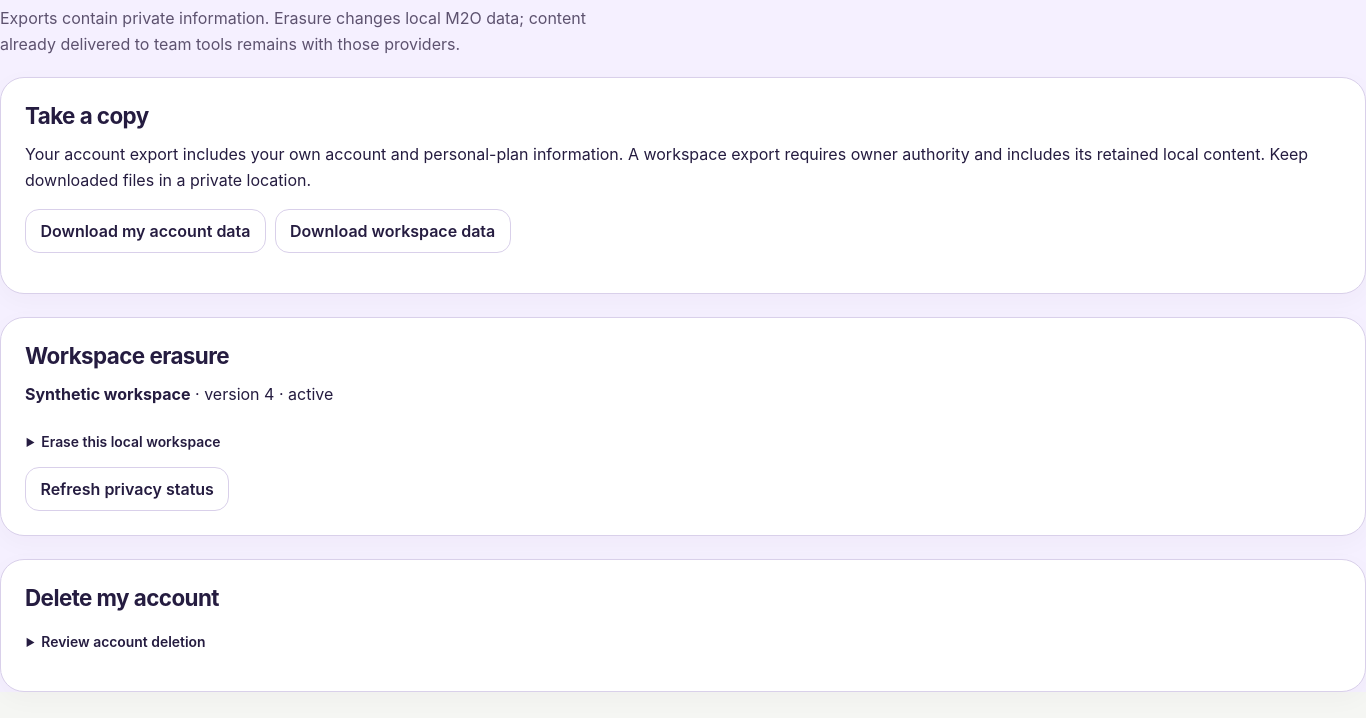
Scenario: requires the current name/password/version and preserves a truthful local-erasure receipt
Step 1. Click the heading "Erase this local workspace" → click(131, 442), box left=41, top=434, right=220, bottom=450
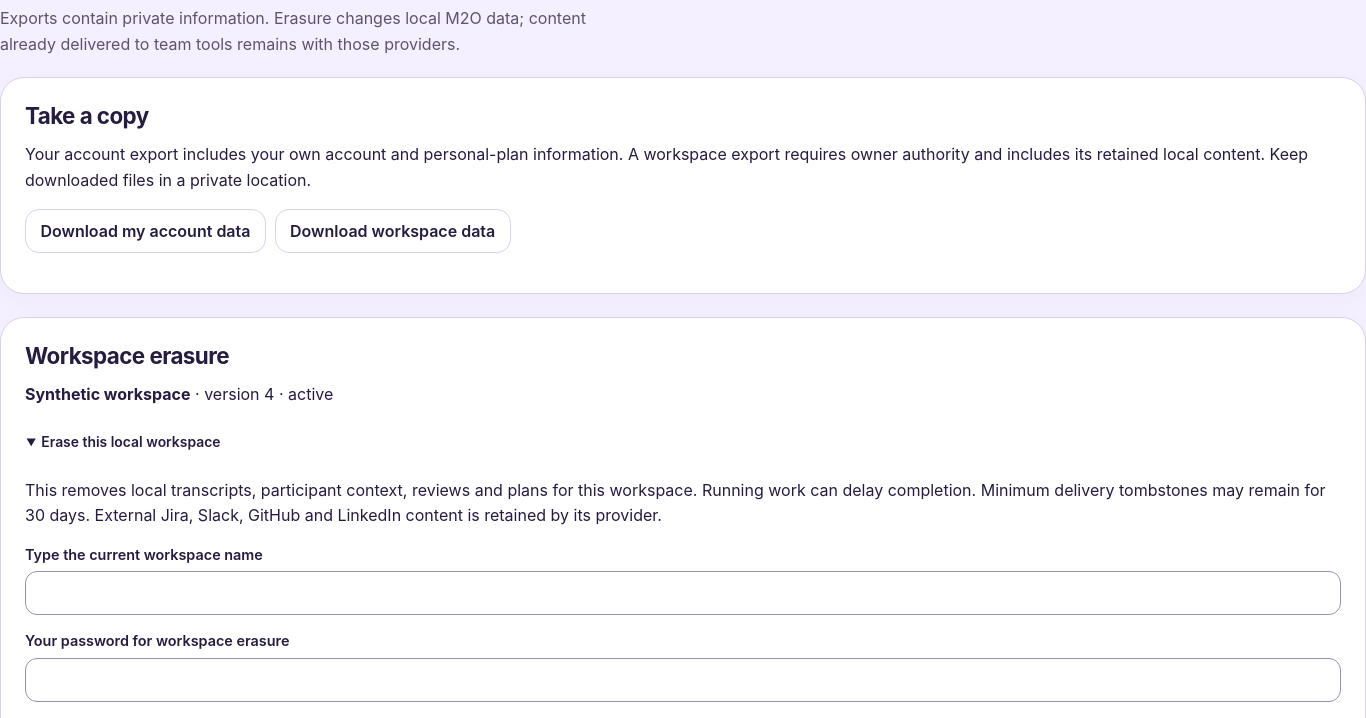
Step 2. Type "Synthetic workspace" into the field labelled "Type the current workspace name" → (683, 593), box left=25, top=571, right=1341, bottom=615
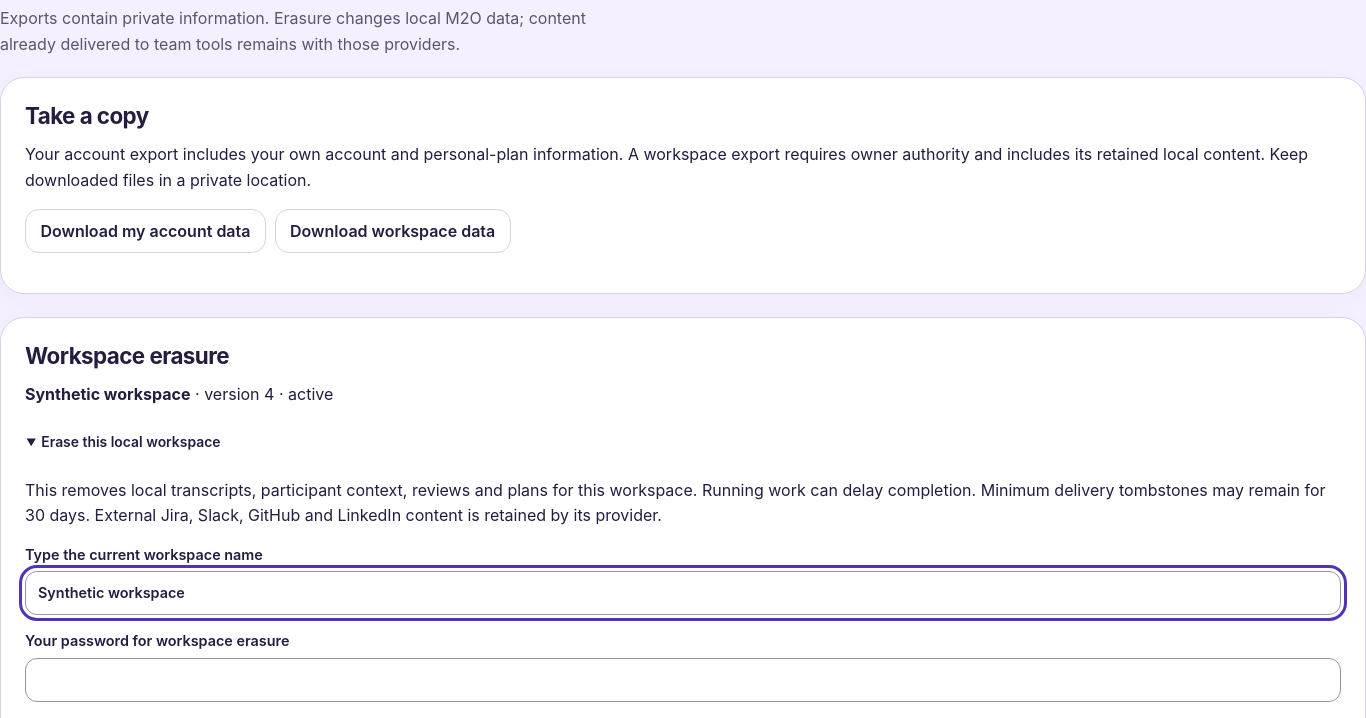
Step 3. Type "Synthetic-password" into the password field labelled "Your password for workspace erasure" → (683, 680), box left=25, top=658, right=1341, bottom=702
(page scrolled)
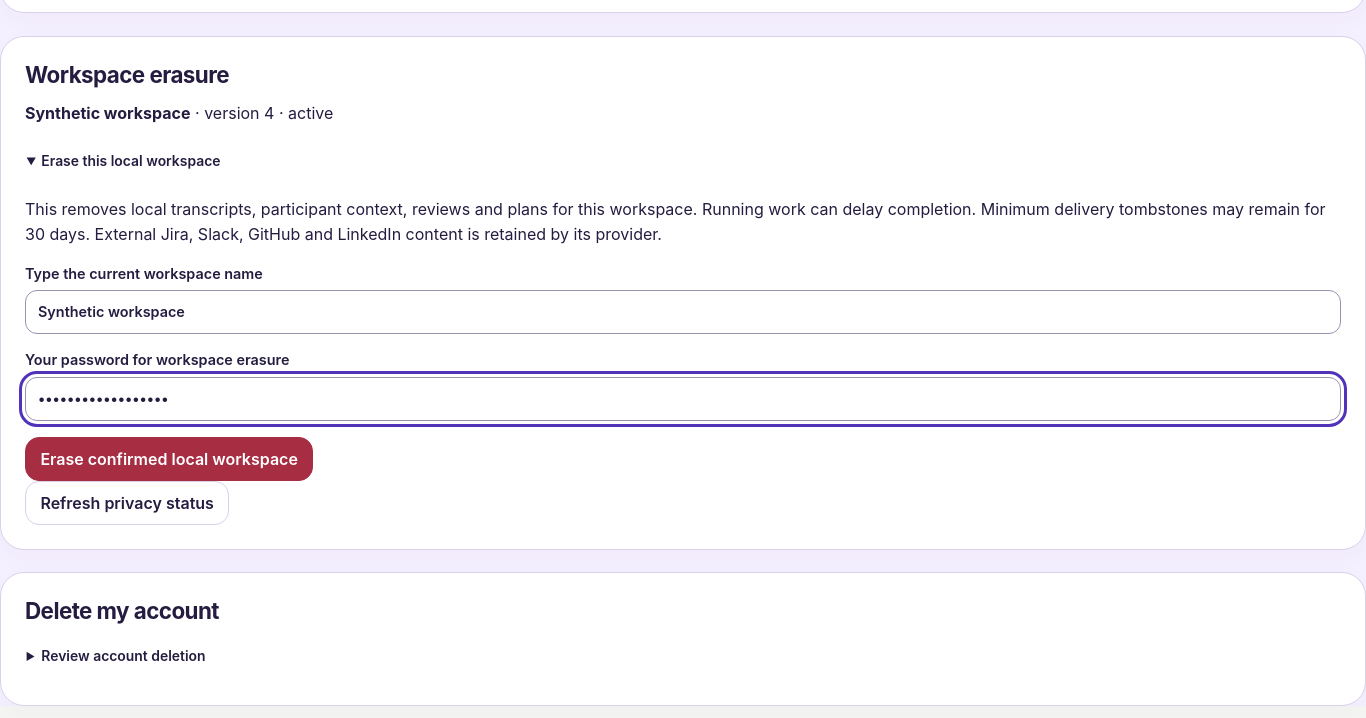
Step 4. Click the button "Erase confirmed local workspace" → click(169, 459), box left=25, top=437, right=313, bottom=481
(page scrolled)
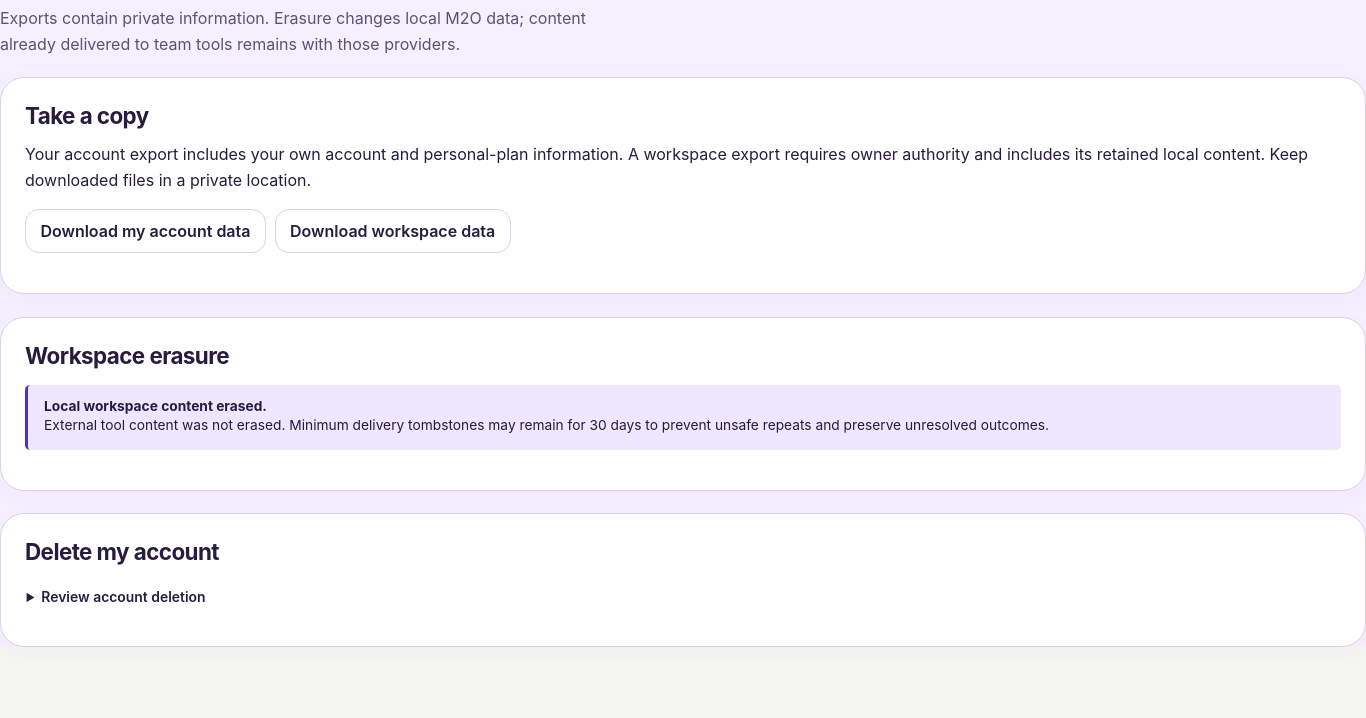
Expected: the text "Local workspace content erased." is shown, left=44, top=398, right=267, bottom=414
Expected: the text "External tool content was not erased" is shown, left=44, top=417, right=586, bottom=433
